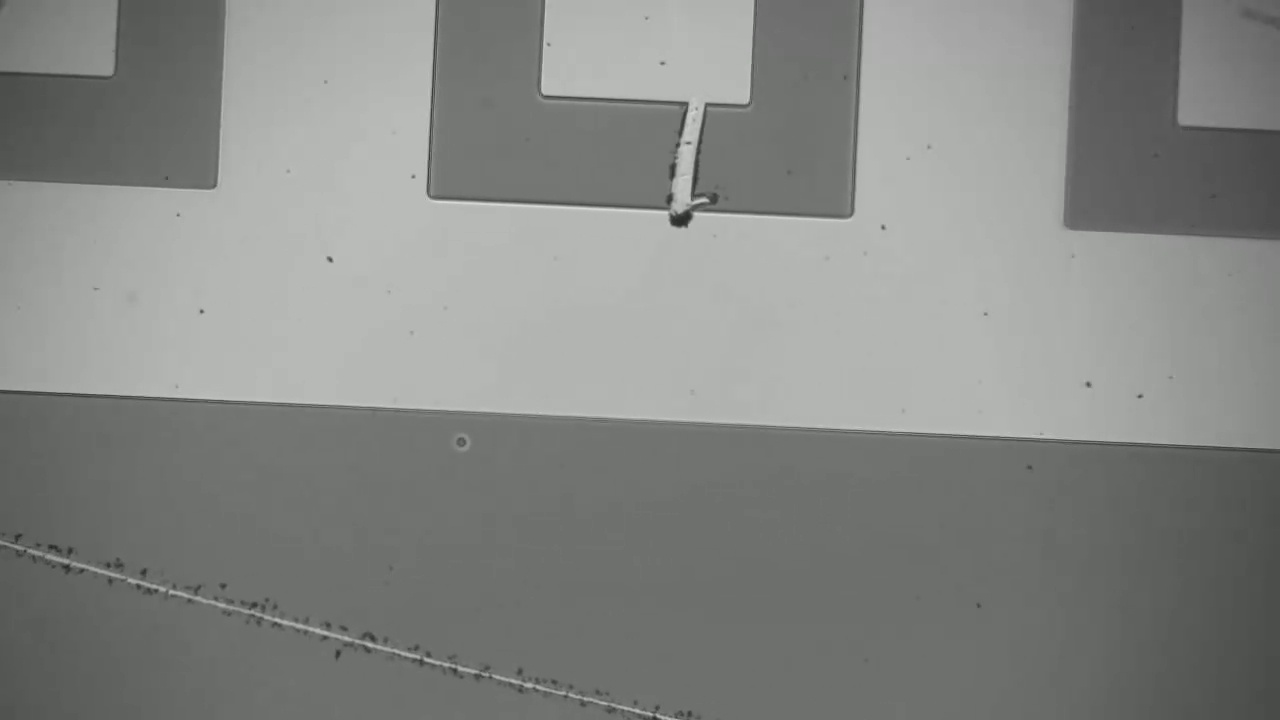Short_circuit: (648, 69, 716, 262)
scratch: (7, 540, 701, 720)
